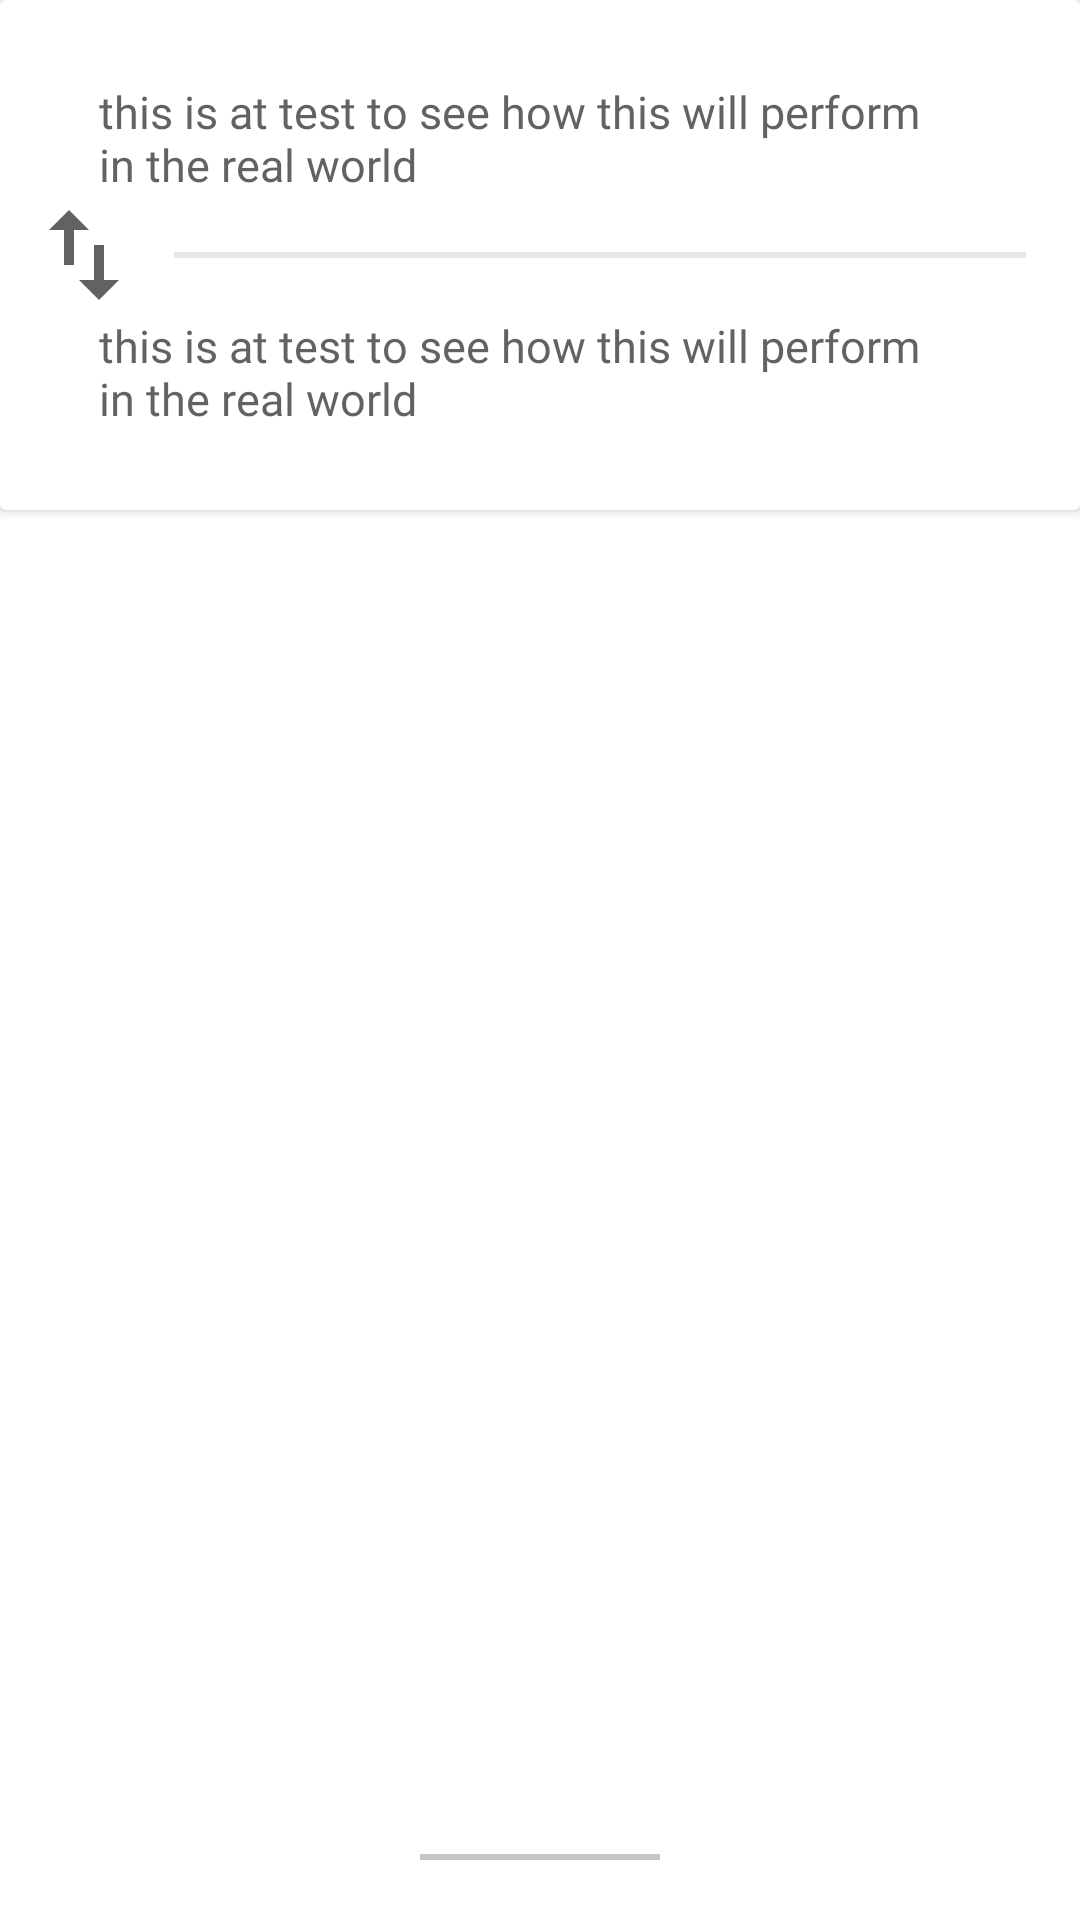

Named icons in this screenshot (1080x1920) and their bounding boxes, box=[x1, y1, x2, y2]:
swap vert: box=[49, 210, 119, 300]
